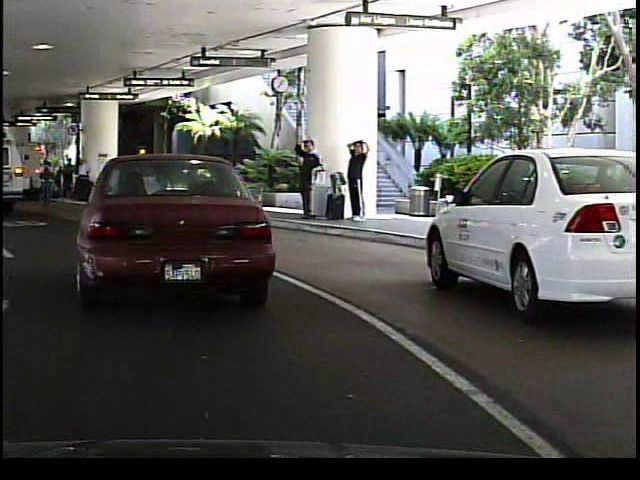person: (289, 133, 321, 217), (341, 135, 368, 223), (328, 149, 349, 217), (177, 154, 196, 194)
